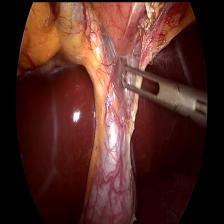Grasper: (119, 62, 208, 128)
